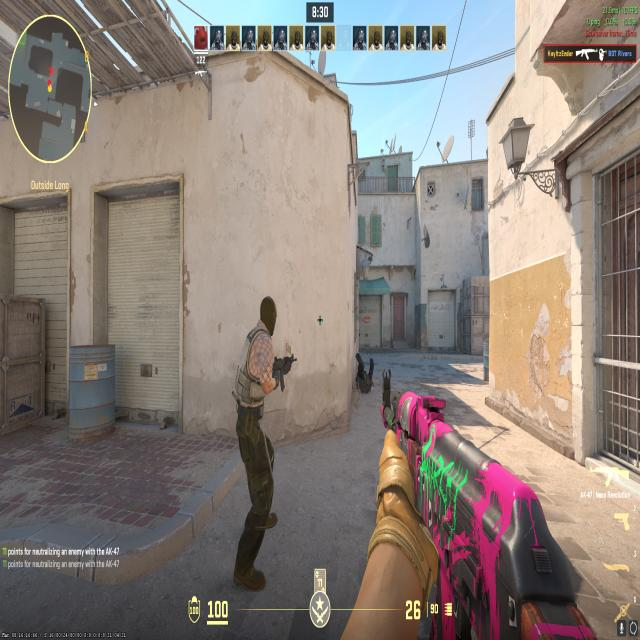t: (230, 297, 282, 598)
